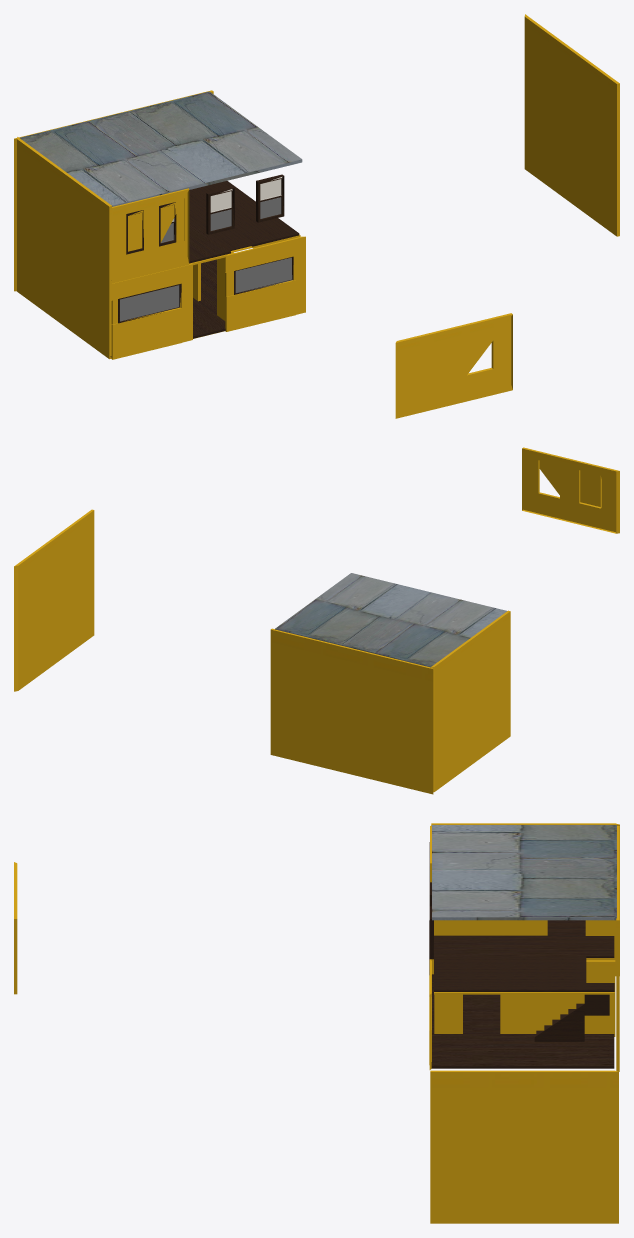
The model's file is tienda.obj.
3 renders of one model, top to bottom at view 1: azimuth 30°, elevation 25°; view 2: azimuth 150°, elevation 25°; view 3: azimuth 270°, elevation 25°, orthographic. The views are drawn at different scales.
Parts seen in each view (by area): view 1: Electrical_Shops upper_walls top_rear_wall_06, Electrical_Shops upper_walls top_rear_wall_08, Electrical_Shops upper_walls top_rear_wall_07, Electrical_Shops top_front_wall_02 upper_walls, Electrical_Shops upper_walls top_front_wall_03, Electrical_Shops middle_floor middle_floor_02, Electrical_Shops bottom_wall_cover_04 extras, Electrical_Shops extras bottom_wall_cover_05, lower_walls Electrical_Shops bottom_front_wall_04, lower_walls Electrical_Shops bottom_front_wall_03, Electrical_Shops upper_walls top_rear_wall_013, Electrical_Shops bottom_window_04 windows1 (+5 smaller); view 2: Electrical_Shops upper_walls top_rear_wall_02, Electrical_Shops upper_walls top_rear_wall_06, Electrical_Shops upper_walls top_rear_wall_08, Electrical_Shops upper_walls top_rear_wall_07, Electrical_Shops top_front_wall_02 upper_walls; view 3: Electrical_Shops upper_walls top_rear_wall_08, Electrical_Shops upper_walls top_rear_wall_06, Electrical_Shops upper_walls top_rear_wall_013, Electrical_Shops middle_floor middle_floor_02, Electrical_Shops upper_walls top_rear_wall_012, bottom_center_wall lower_walls Electrical_Shops, lower_walls Electrical_Shops bottom_center_wall2, lower_walls Electrical_Shops bottom_center_wall1, Electrical_Shops extras stairs_cover_01, Electrical_Shops upper_walls top_rear_wall_02, Electrical_Shops extras stairs_01, Electrical_Shops upper_walls top_rear_wall_07.
Boxes of the visible parts, box(x1,y1,x2,y2) form: Electrical_Shops upper_walls top_rear_wall_06: box(19, 91, 302, 206); Electrical_Shops upper_walls top_rear_wall_08: box(524, 14, 619, 236); Electrical_Shops upper_walls top_rear_wall_07: box(17, 137, 112, 358); Electrical_Shops top_front_wall_02 upper_walls: box(395, 313, 512, 418); Electrical_Shops upper_walls top_front_wall_03: box(112, 188, 189, 283); Electrical_Shops middle_floor middle_floor_02: box(189, 181, 299, 250); Electrical_Shops bottom_wall_cover_04 extras: box(111, 307, 181, 359); Electrical_Shops extras bottom_wall_cover_05: box(225, 280, 295, 331); lower_walls Electrical_Shops bottom_front_wall_04: box(225, 236, 305, 314); lower_walls Electrical_Shops bottom_front_wall_03: box(111, 264, 192, 342); Electrical_Shops upper_walls top_rear_wall_013: box(110, 259, 225, 357); Electrical_Shops bottom_window_04 windows1: box(120, 285, 179, 321); Electrical_Shops upper_walls top_rear_wall_02: box(270, 628, 433, 794); Electrical_Shops upper_walls top_rear_wall_06: box(275, 573, 506, 667); Electrical_Shops upper_walls top_rear_wall_08: box(14, 509, 94, 691); Electrical_Shops upper_walls top_rear_wall_07: box(430, 610, 510, 792); Electrical_Shops top_front_wall_02 upper_walls: box(522, 447, 619, 533); Electrical_Shops upper_walls top_rear_wall_08: box(430, 1070, 618, 1223); Electrical_Shops upper_walls top_rear_wall_06: box(432, 825, 616, 920); Electrical_Shops upper_walls top_rear_wall_013: box(431, 974, 614, 1068); Electrical_Shops middle_floor middle_floor_02: box(434, 956, 614, 991); Electrical_Shops upper_walls top_rear_wall_012: box(434, 920, 614, 958); bottom_center_wall lower_walls Electrical_Shops: box(500, 960, 615, 1036); lower_walls Electrical_Shops bottom_center_wall2: box(434, 920, 547, 935); lower_walls Electrical_Shops bottom_center_wall1: box(434, 994, 462, 1033); Electrical_Shops extras stairs_cover_01: box(534, 1004, 584, 1041); Electrical_Shops upper_walls top_rear_wall_02: box(616, 826, 619, 1071); Electrical_Shops extras stairs_01: box(536, 994, 609, 1035); Electrical_Shops upper_walls top_rear_wall_07: box(431, 823, 619, 976).
Size of the model in its own units: 145 by 41.57 by 149.
6 materials, 5 textured.
